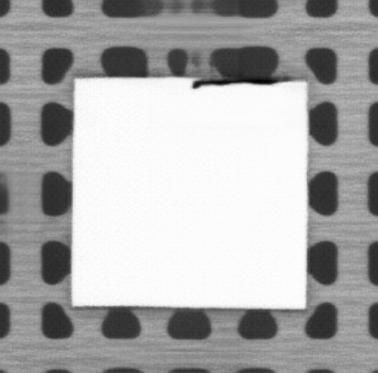DIE_BROKEN: (190, 75, 286, 90)
